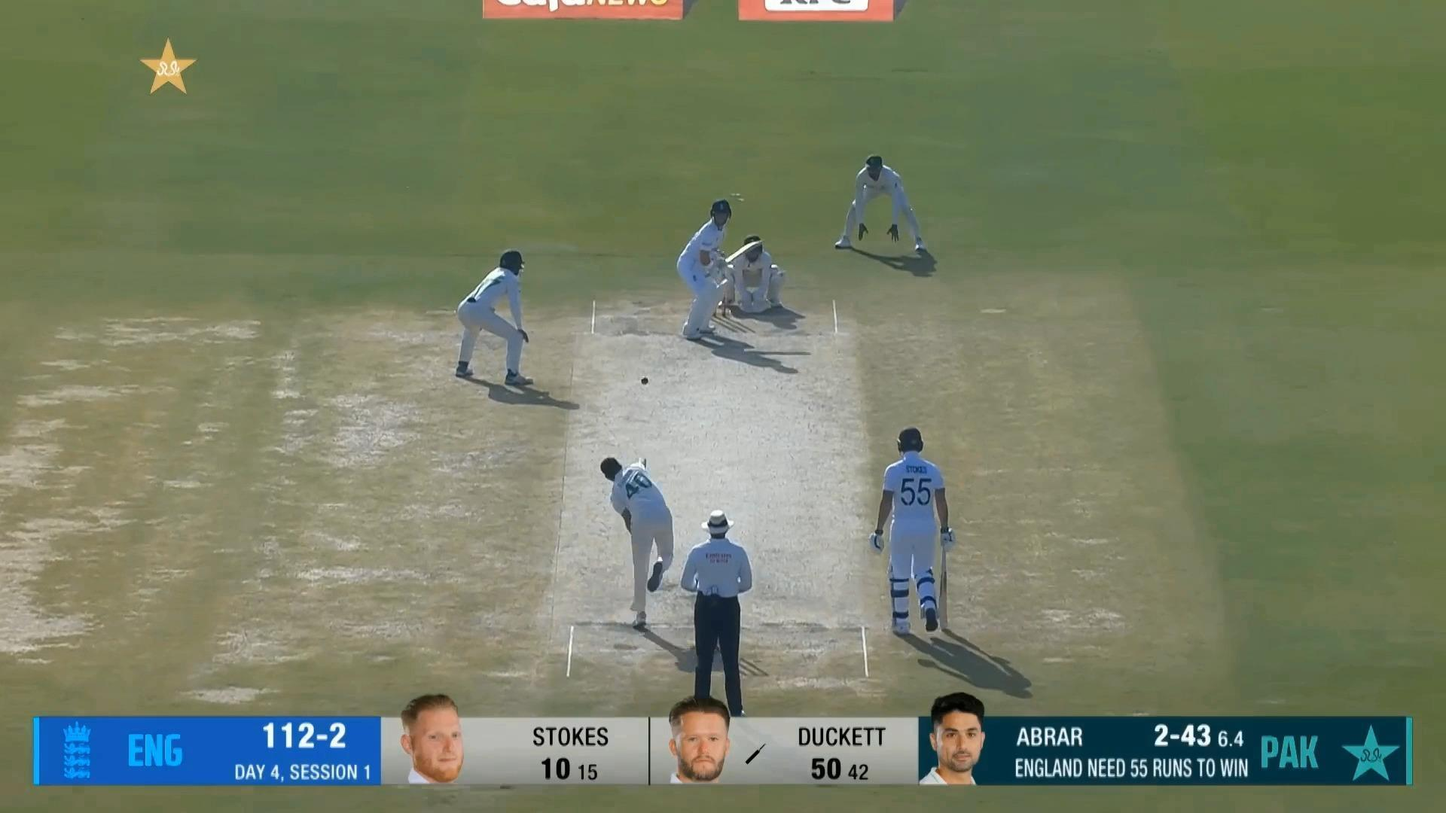BM 1: (674, 198, 766, 341)
BO: (599, 454, 676, 628)
